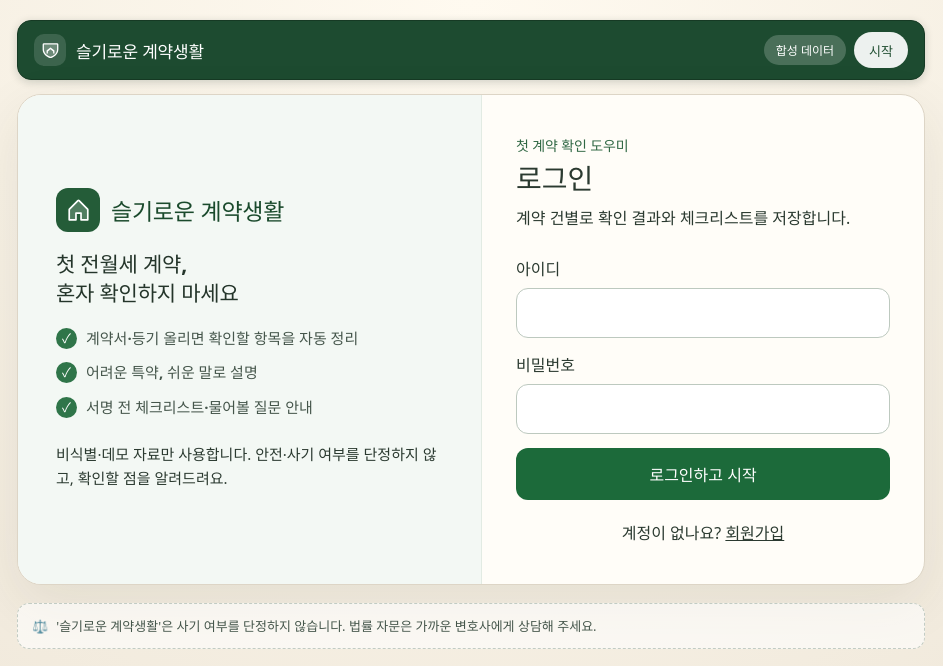
Test case: login mode selection › moves a signed-in user to mode selection
Type "tester" into the field labelled "아이디". click: (703, 313)
box: [516, 288, 890, 338]
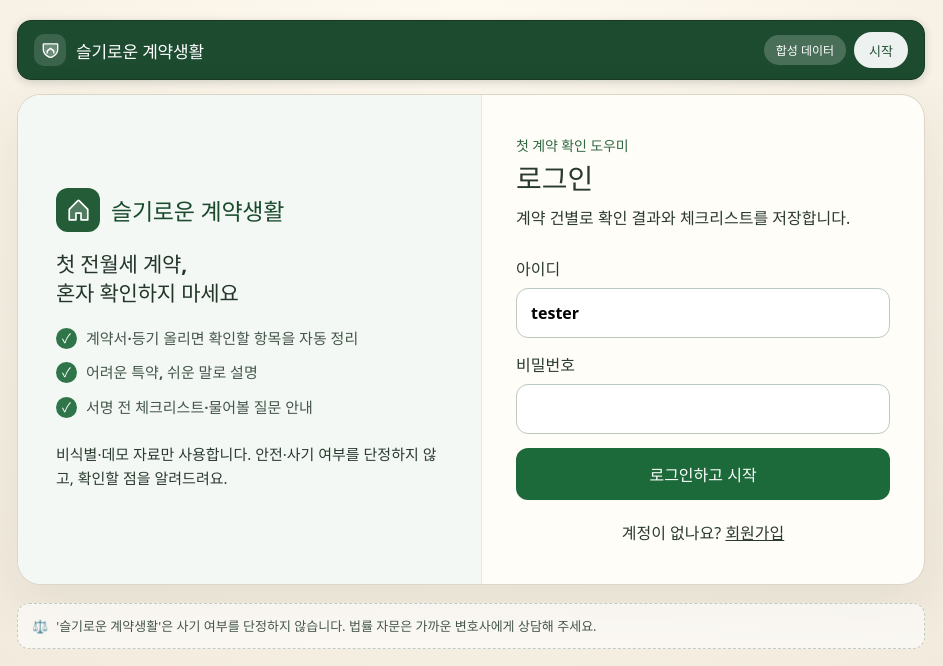
Type "password1!" into the password field labelled "비밀번호". click: (703, 409)
box: [516, 384, 890, 434]
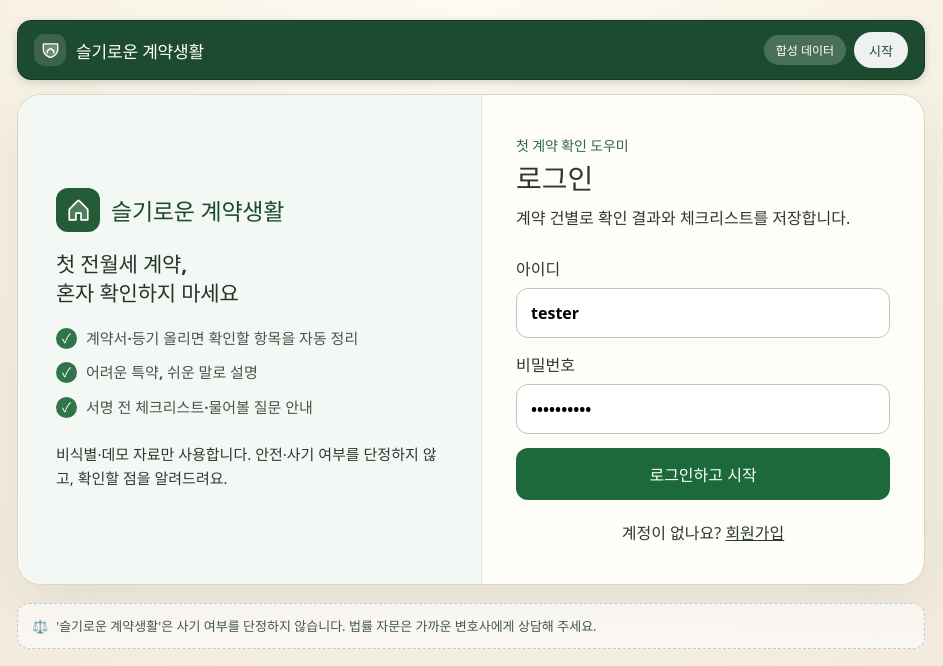
Click the button "로그인하고 시작". click: (703, 474)
box: [516, 448, 890, 500]
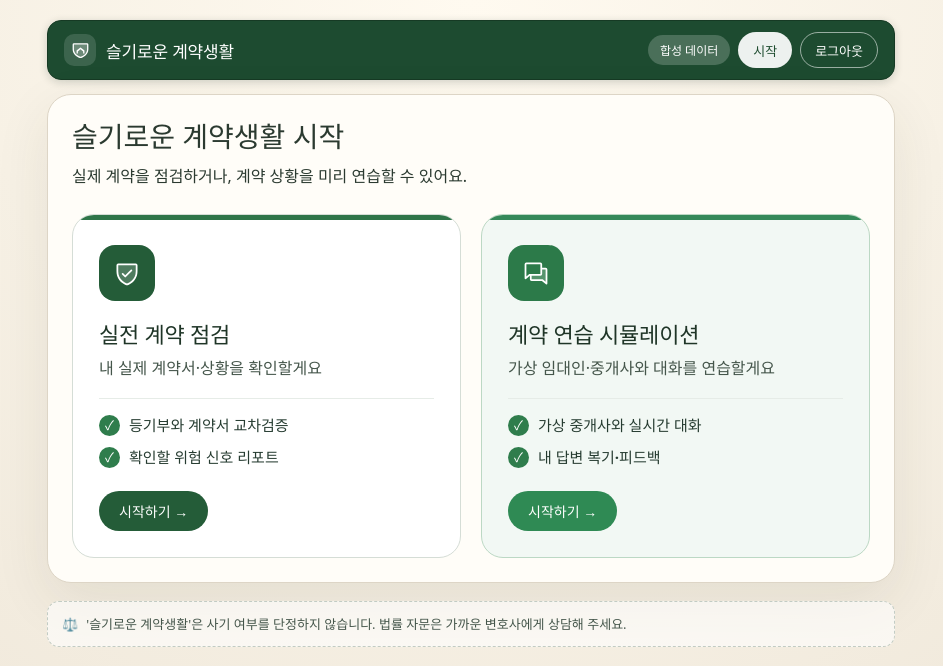
Expected: the heading "슬기로운 계약생활 시작" is shown, [72, 117, 344, 155]
